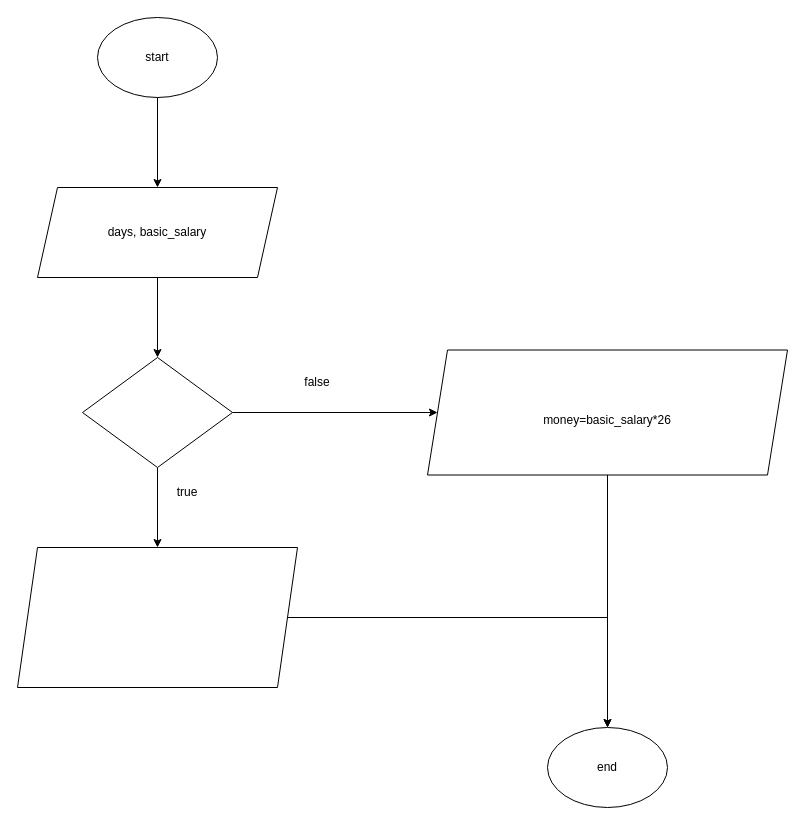
The diagram is 805 pixels wide and 825 high, and some of its shapes have lost their labels. Here are the shapes that lost their labels. From the top down, the centre of each, then its label:
point (157, 412): days>26
point (157, 617): money=(days-26)*basic_salary*150/100+ basic_salaty*26
